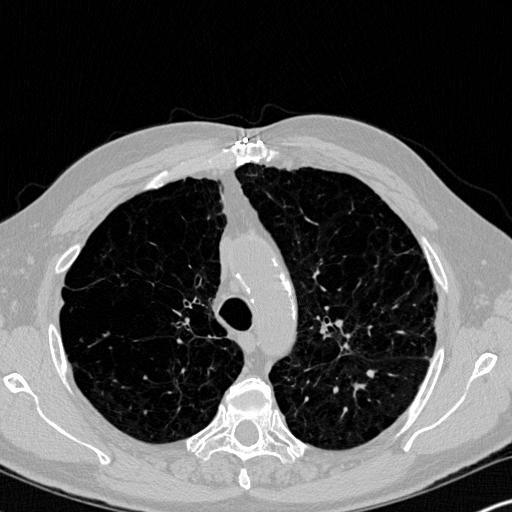nodule: (365, 367, 377, 379)
